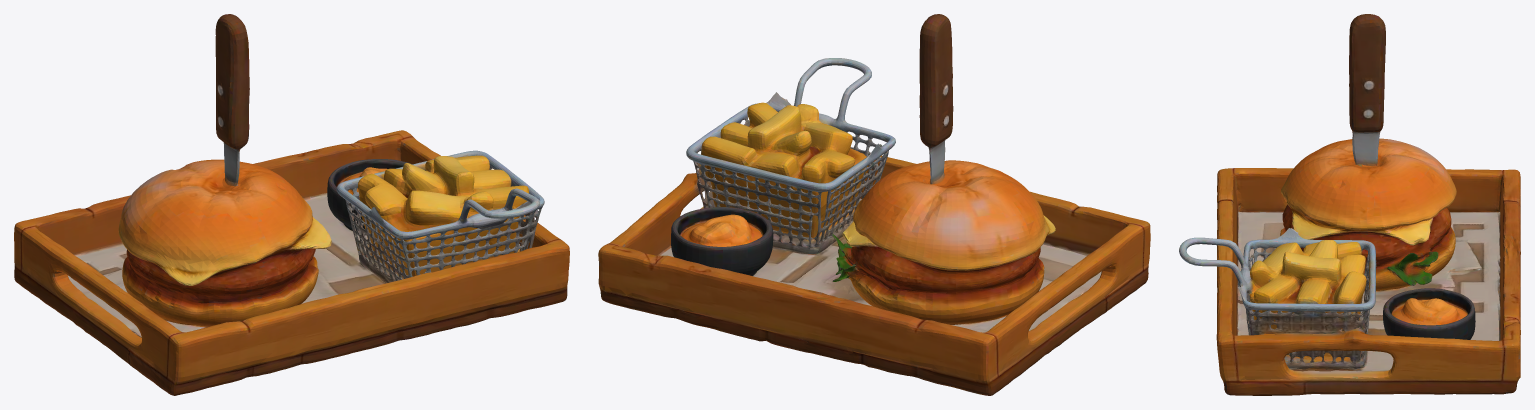
File: dish-compressed.glb
3 renders of one model, left to right at view 1: azimuth 30°, elevation 25°; view 2: azimuth 150°, elevation 25°; view 3: azimuth 270°, elevation 25°, orthographic. The views are drawn at different scales.
Parts seen in each view (by area): view 1: tripo_node_d66e9480-6e64-499c-8da4-48503ccbe451; view 2: tripo_node_d66e9480-6e64-499c-8da4-48503ccbe451; view 3: tripo_node_d66e9480-6e64-499c-8da4-48503ccbe451.
Boxes of the visible parts, x1,y1,x2,y2 form: tripo_node_d66e9480-6e64-499c-8da4-48503ccbe451: (14,14,569,395); tripo_node_d66e9480-6e64-499c-8da4-48503ccbe451: (598,14,1150,395); tripo_node_d66e9480-6e64-499c-8da4-48503ccbe451: (1179,14,1520,395).
Size of the model in its own units: 0.45 by 0.3157 by 0.3667.
1 material, 1 textured.
